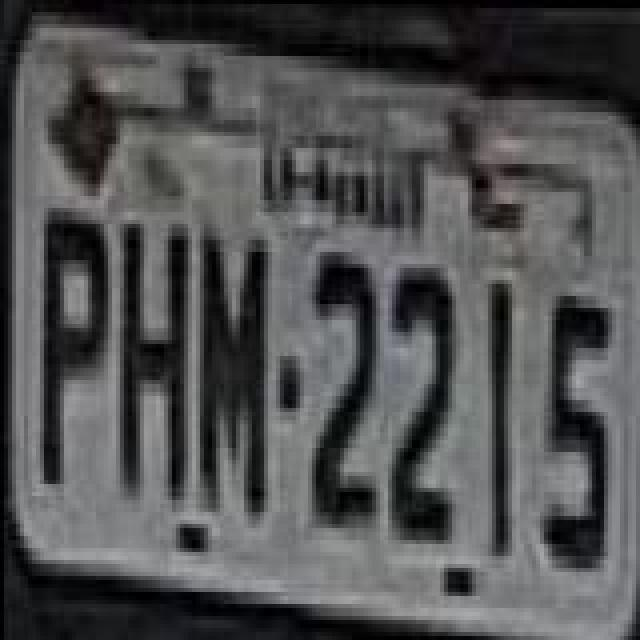1: (486, 268, 510, 568)
2: (308, 244, 384, 532), (380, 260, 456, 548)
5: (540, 286, 616, 574)
H: (116, 226, 192, 514)
M: (196, 224, 272, 524)
P: (36, 200, 112, 488)
